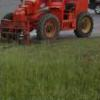Tractor: (4, 2, 95, 49)
